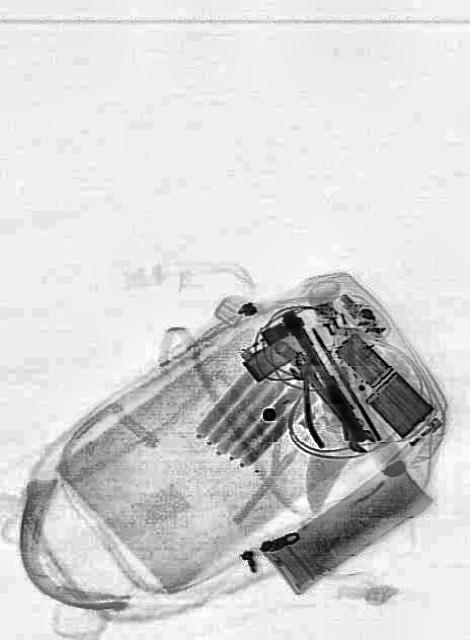Pliers: (282, 342, 350, 452)
Wrench: (277, 303, 379, 462)
